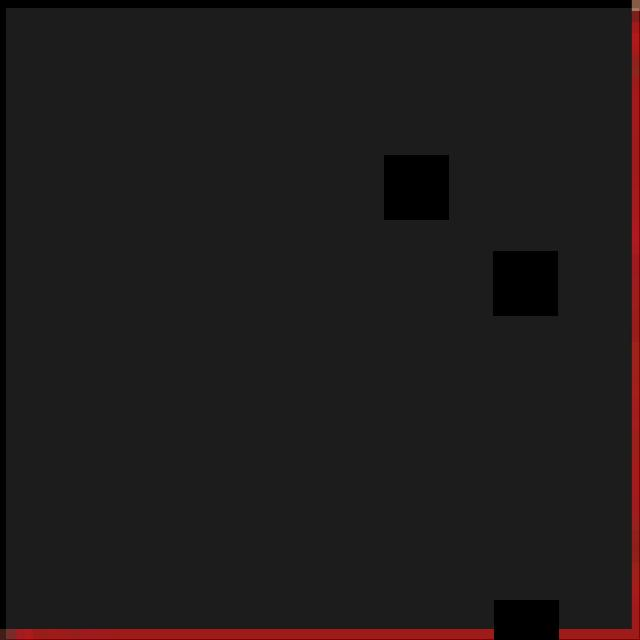fire: (6, 8, 639, 639)
